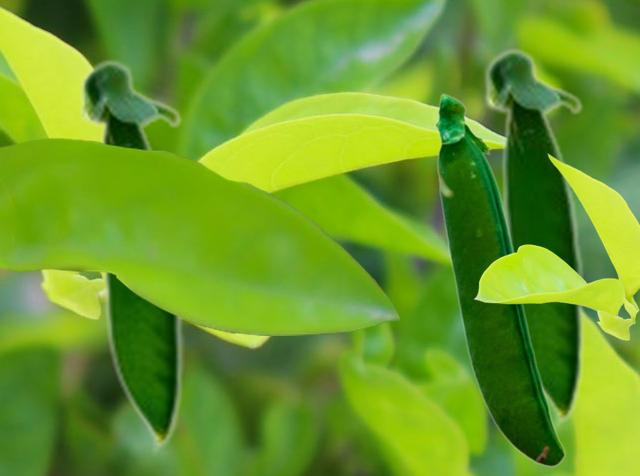pea: (434, 92, 564, 466), (77, 57, 183, 454), (482, 46, 584, 429)
